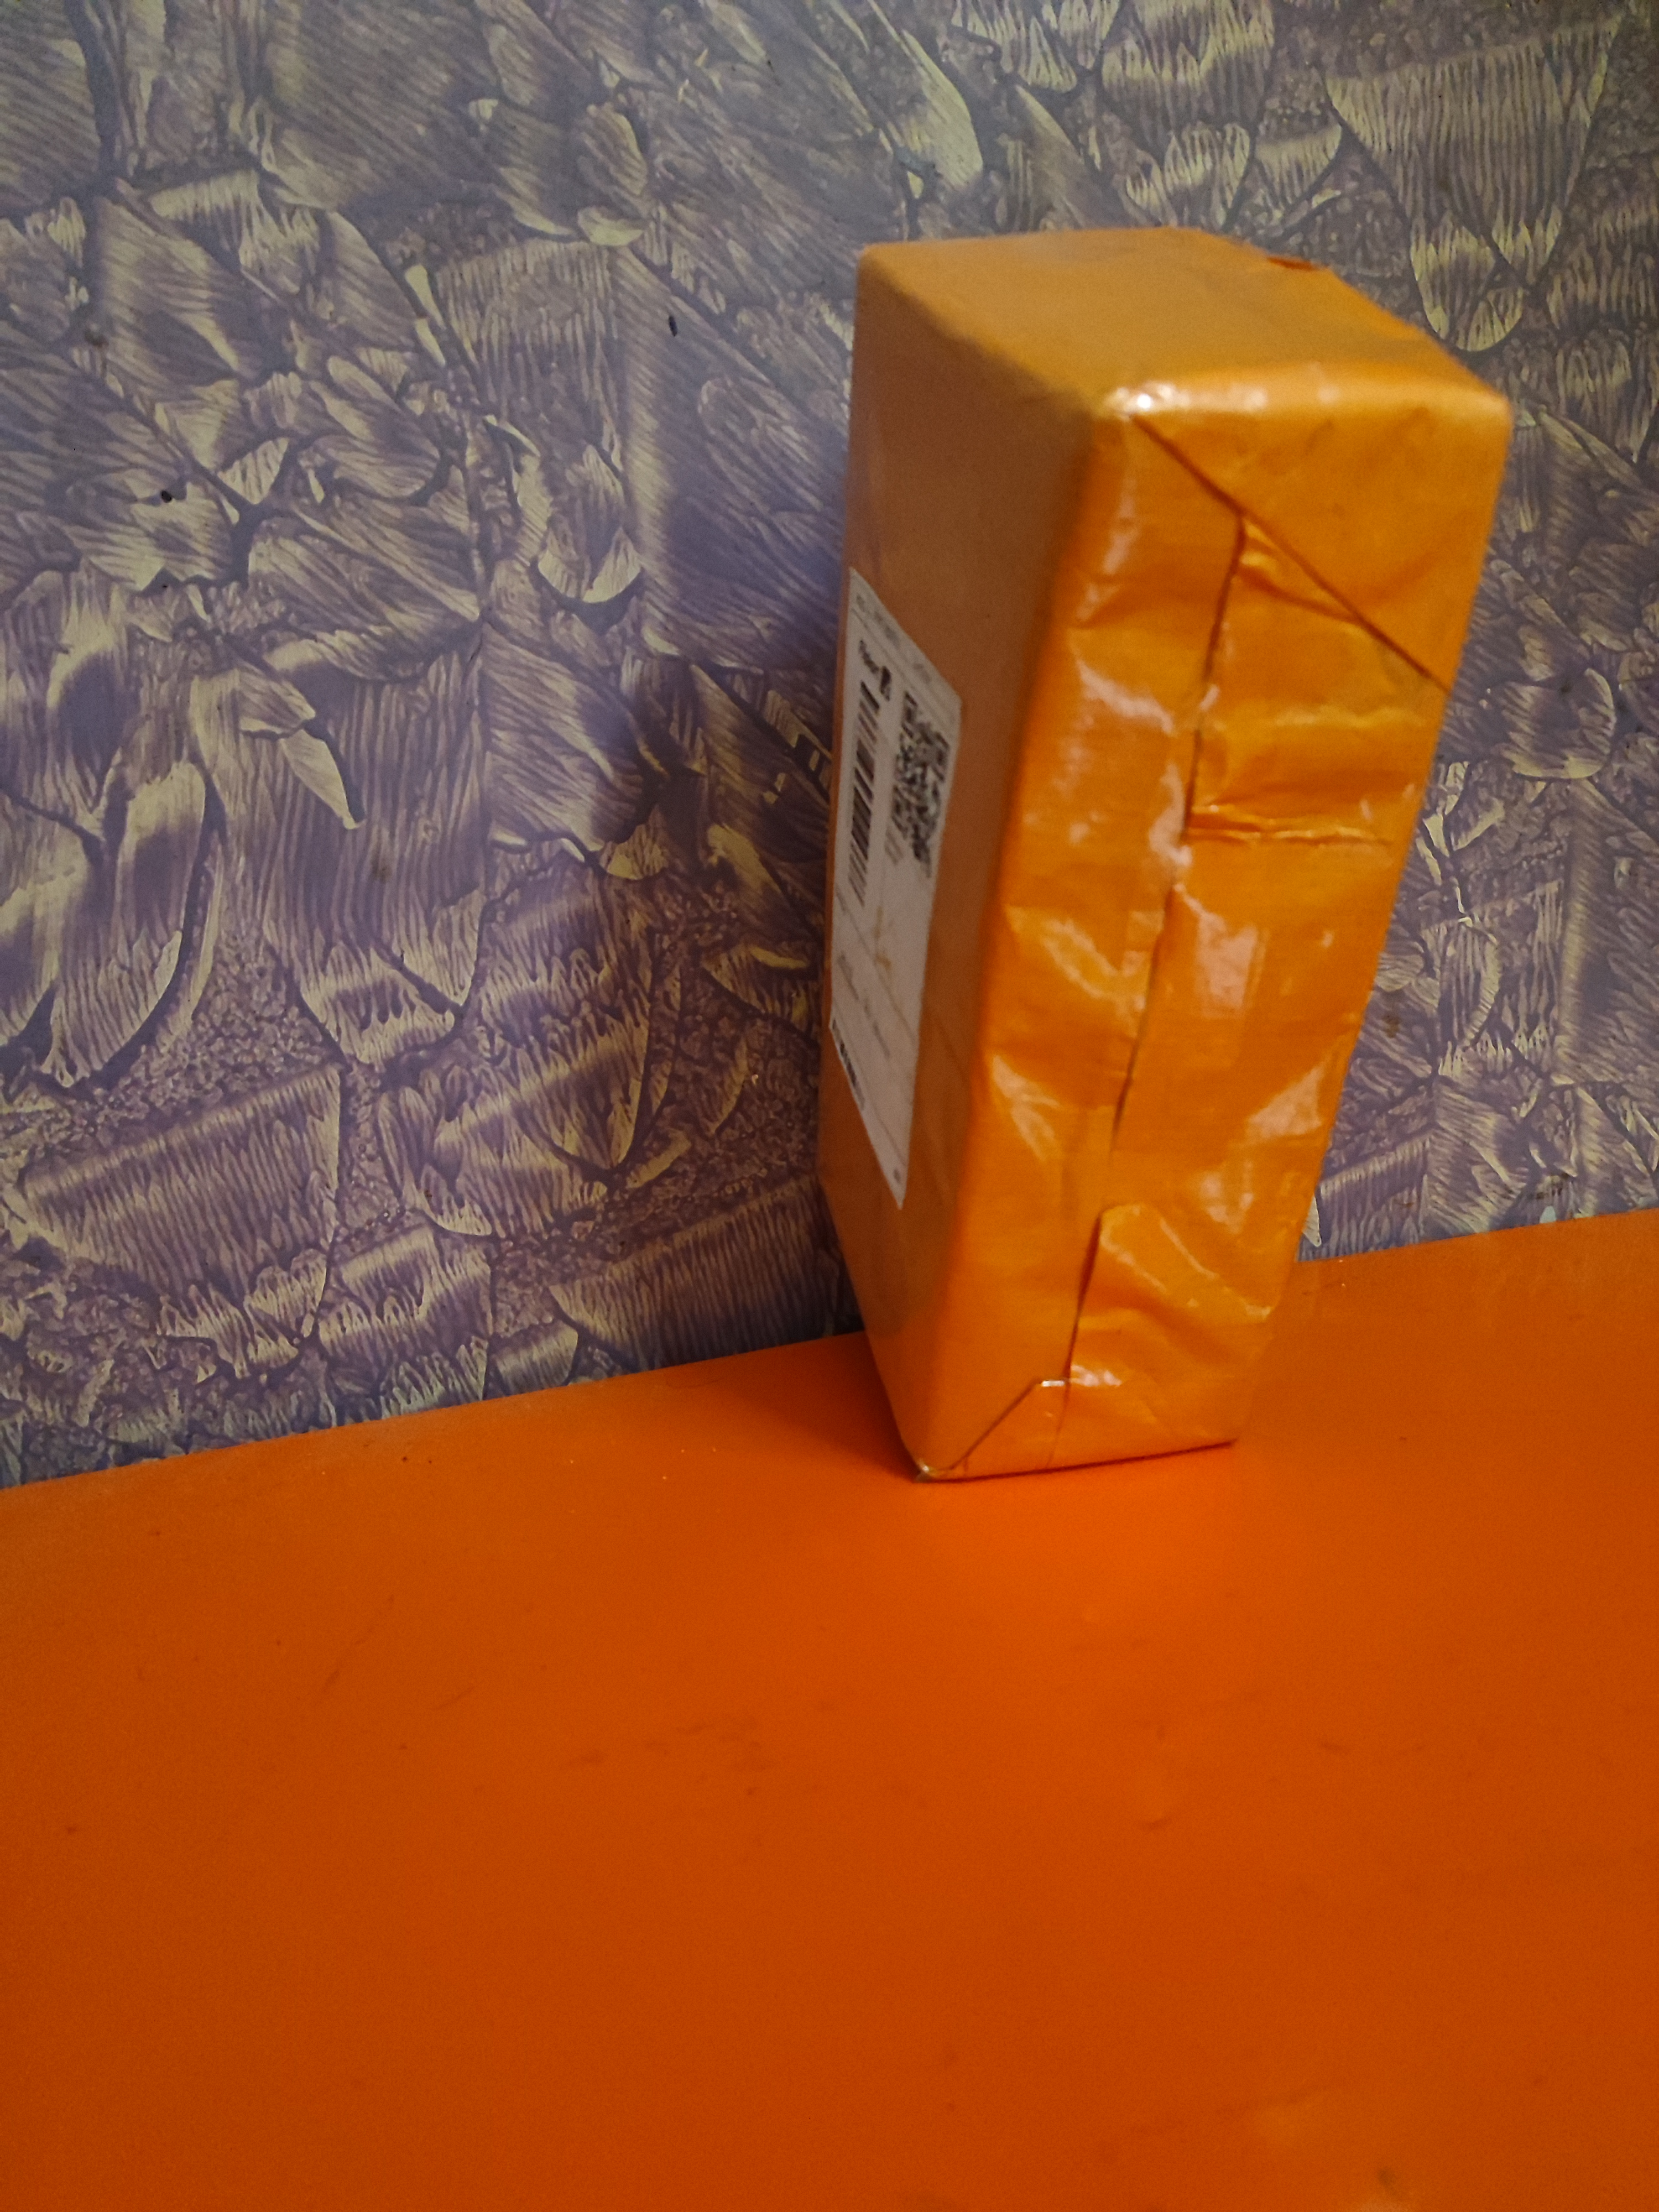Box: (789, 239, 1389, 1460)
